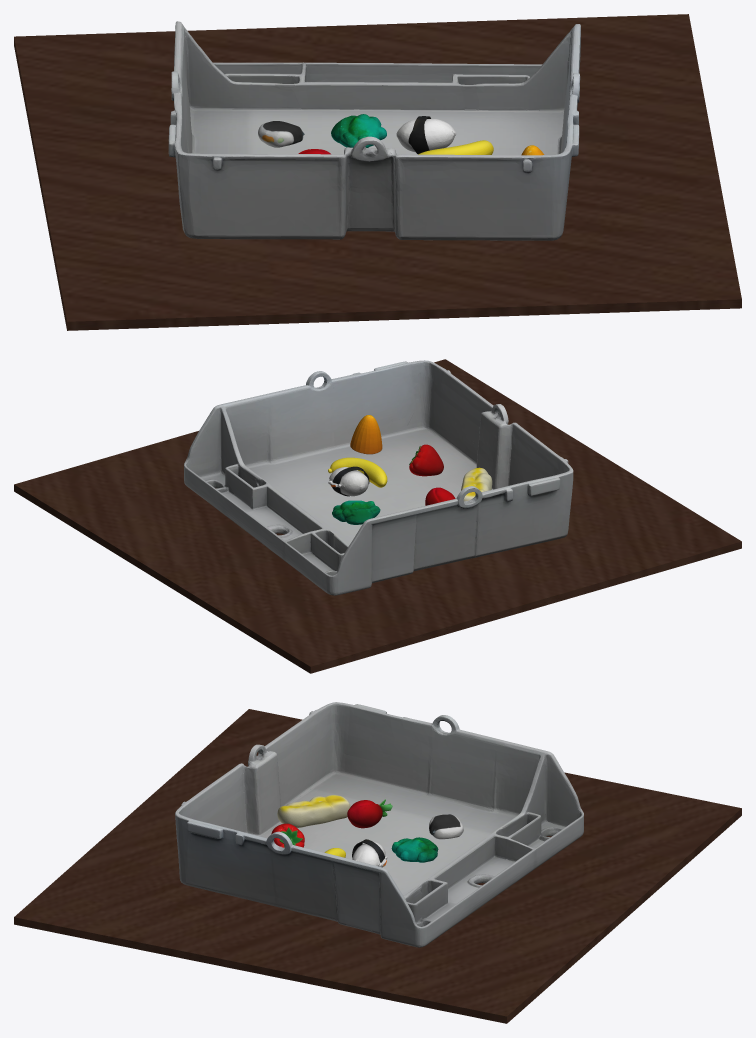
File: ours.glb
3 views of the same model, one above another, from view 1: azimuth 30°, elevation 25°; view 2: azimuth 150°, elevation 25°; view 3: azimuth 270°, elevation 25° (orthographic). The views are drawn at different scales.
Visible parts, largest first — view 1: table_0, obj_bin_0, obj_sushi_0, obj_broccoli_0, obj_sushi_1, obj_banana_0; view 2: table_0, obj_bin_0, obj_sushi_0, obj_carrot_0, obj_broccoli_0, obj_strawberry_0, obj_banana_0, obj_bread_0; view 3: table_0, obj_bin_0, obj_bread_0, obj_broccoli_0, obj_tomato_0, obj_sushi_1, obj_sushi_0.
Part boxes in pixels (x1,y1,x2,y2): table_0: (14, 14, 741, 330); obj_bin_0: (168, 21, 580, 240); obj_sushi_0: (396, 116, 456, 154); obj_broccoli_0: (331, 114, 386, 147); obj_sushi_1: (258, 121, 304, 147); obj_banana_0: (418, 140, 493, 154); table_0: (14, 359, 741, 673); obj_bin_0: (184, 360, 573, 595); obj_sushi_0: (328, 466, 369, 496); obj_carrot_0: (350, 415, 382, 454); obj_broccoli_0: (332, 500, 380, 524); obj_strawberry_0: (409, 444, 443, 476); obj_banana_0: (328, 457, 387, 487); obj_bread_0: (461, 467, 492, 501); table_0: (14, 709, 741, 1023); obj_bin_0: (175, 702, 583, 947); obj_bread_0: (277, 795, 350, 827); obj_broccoli_0: (391, 837, 438, 862); obj_tomato_0: (347, 799, 392, 828); obj_sushi_1: (429, 814, 463, 839); obj_sushi_0: (352, 839, 387, 867).
Bounding box in the file's own units: 1.8 × 0.2508 × 1.8.
10 materials, 10 textured.
